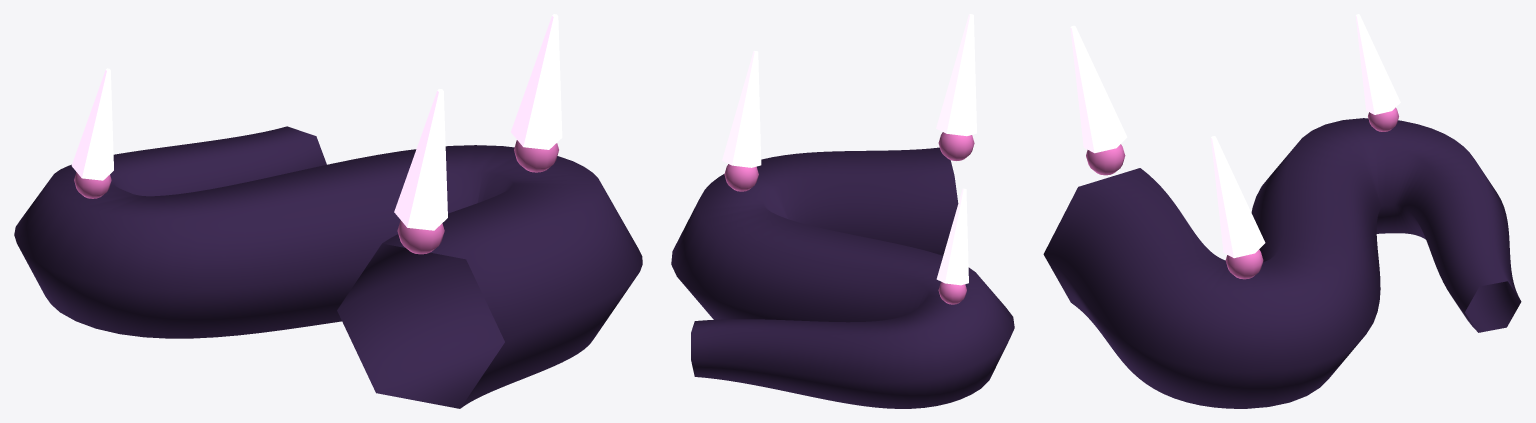
The model's file is SM_Keeper_Apep_Body_F25.fbx.
3 renders of one model, left to right at view 1: azimuth 30°, elevation 25°; view 2: azimuth 150°, elevation 25°; view 3: azimuth 270°, elevation 25°, orthographic. The views are drawn at different scales.
Parts seen in each view (by area): view 1: SM_Keeper_Apep_Body_F25; view 2: SM_Keeper_Apep_Body_F25; view 3: SM_Keeper_Apep_Body_F25.
Boxes of the visible parts, x1,y1,x2,y2 form: SM_Keeper_Apep_Body_F25: (14, 14, 642, 408); SM_Keeper_Apep_Body_F25: (671, 14, 1014, 408); SM_Keeper_Apep_Body_F25: (1043, 14, 1521, 408).
Bounding box in the file's own units: 6.54 × 4.37 × 6.54.
